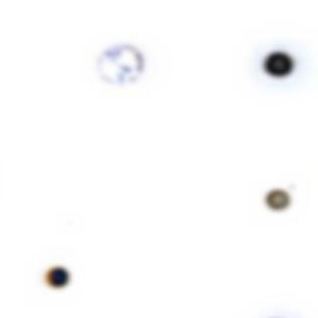abnormal: (88, 35, 153, 96)
cancer: (247, 42, 314, 97)
normal: (255, 169, 303, 218), (32, 258, 85, 295)
